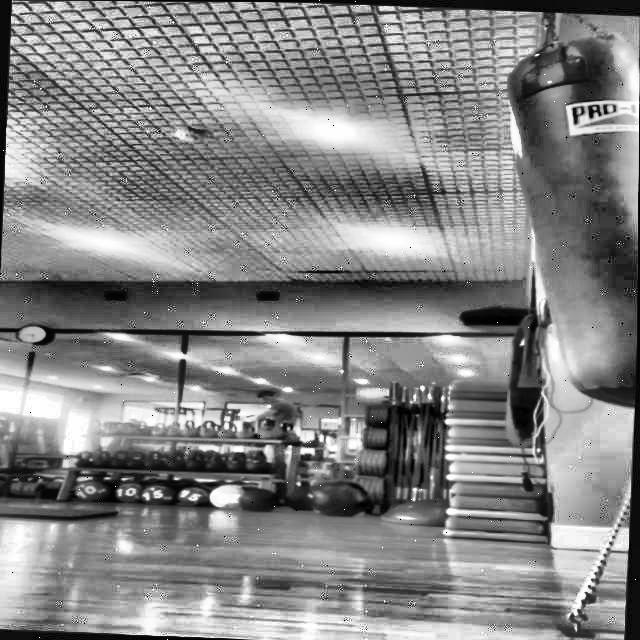boxing-bag: (493, 9, 640, 415)
